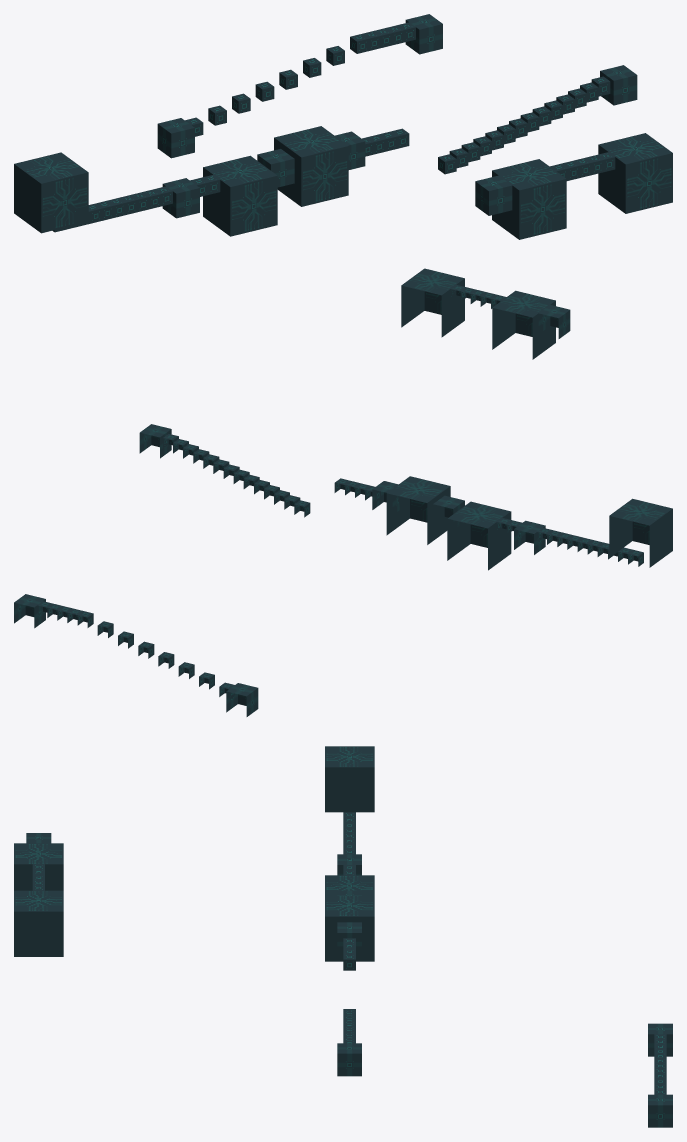
File: ActionMap.fbx
The picture shows the model from 3 angles, top to bottom: view 1: azimuth 30°, elevation 25°; view 2: azimuth 150°, elevation 25°; view 3: azimuth 270°, elevation 25°; orthographic projection. The views are drawn at different scales.
Visible parts, largest first — view 1: MapTile_A.014, MapTile_A.002, MapTile_A.015, MapTile_A.008, MapTile_A.003, MapTile_C.002, MapTile_C.004, MapTile_C.005, MapTile_B.006, MapTile_B.005, MapTile_C.003, MapTile_B.003 (+7 smaller); view 2: MapTile_A.014, MapTile_A.015, MapTile_A.002, MapTile_A.003, MapTile_A.008, MapTile_C.002, MapTile_C.004, MapTile_C.005, MapTile_B.006, MapTile_B.005, MapTile_B.003, MapTile_B.004 (+2 smaller); view 3: MapTile_A.014, MapTile_A.015, MapTile_A.003, MapTile_A.008, MapTile_A.002, MapTile_B.003, MapTile_B.004, MapTile_B.002, MapTile_B.005.
Boxes of the visible parts, <box> form: MapTile_A.014: <box>14,152,88,233</box>; MapTile_A.002: <box>203,155,277,236</box>; MapTile_A.015: <box>598,133,672,213</box>; MapTile_A.008: <box>492,159,566,239</box>; MapTile_A.003: <box>274,126,348,206</box>; MapTile_C.002: <box>438,76,610,174</box>; MapTile_C.004: <box>185,46,344,136</box>; MapTile_C.005: <box>52,186,172,232</box>; MapTile_B.006: <box>475,175,512,215</box>; MapTile_B.005: <box>157,118,194,158</box>; MapTile_C.003: <box>350,22,415,53</box>; MapTile_B.003: <box>600,65,637,105</box>; MapTile_A.014: <box>609,498,672,567</box>; MapTile_A.015: <box>401,268,464,337</box>; MapTile_A.002: <box>447,501,511,570</box>; MapTile_A.003: <box>386,476,450,544</box>; MapTile_A.008: <box>492,290,555,359</box>; MapTile_C.002: <box>163,434,310,517</box>; MapTile_C.004: <box>97,621,234,699</box>; MapTile_C.005: <box>537,528,643,566</box>; MapTile_B.006: <box>538,305,570,338</box>; MapTile_B.005: <box>226,683,258,716</box>; MapTile_B.003: <box>139,424,171,458</box>; MapTile_B.004: <box>14,594,45,628</box>; MapTile_A.014: <box>325,746,374,812</box>; MapTile_A.015: <box>14,890,63,956</box>; MapTile_A.003: <box>325,895,374,961</box>; MapTile_A.008: <box>14,843,63,890</box>; MapTile_A.002: <box>325,875,374,895</box>; MapTile_B.003: <box>337,1043,361,1076</box>; MapTile_B.004: <box>648,1094,672,1127</box>; MapTile_B.002: <box>337,922,361,955</box>; MapTile_B.005: <box>648,1023,672,1056</box>.
Size of what is drawn, in the model's own units: 10200 by 3600 by 10600.
3 materials, 3 textured.
